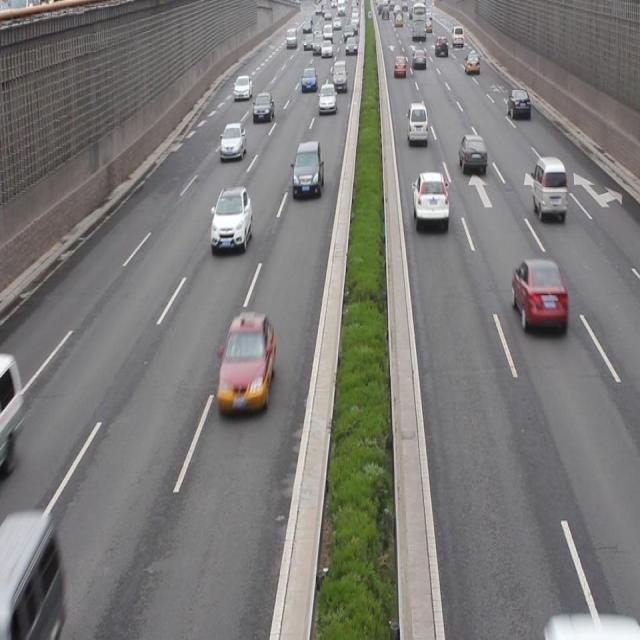car: (217, 314, 274, 414), (511, 258, 566, 335), (210, 187, 252, 254), (412, 173, 446, 228), (292, 142, 322, 197), (218, 120, 247, 158), (458, 134, 484, 175)
truck: (530, 156, 565, 223), (406, 103, 428, 145)
